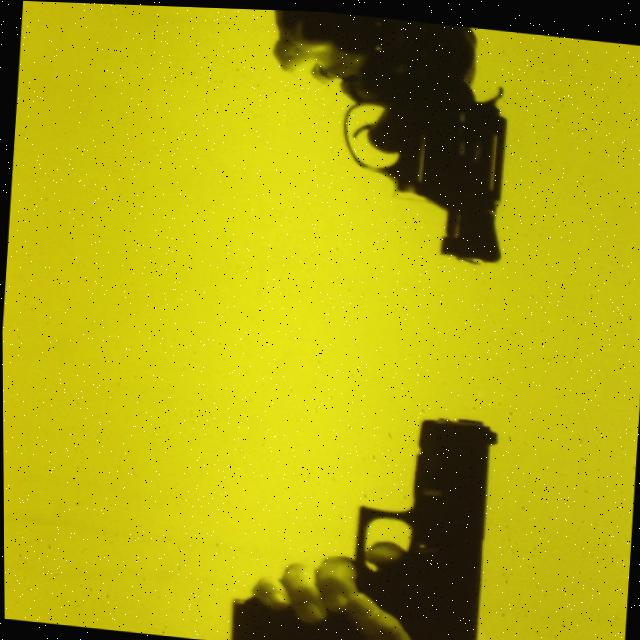pistol: (329, 61, 515, 264), (347, 404, 502, 640)
